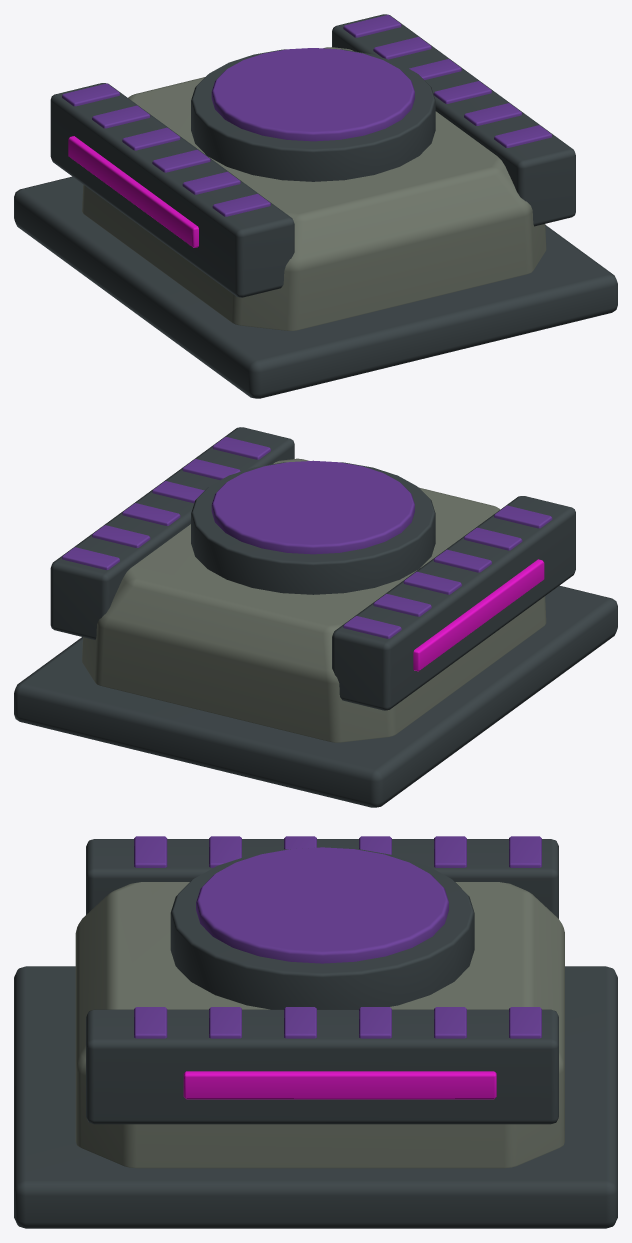
File: military-truck-stealth.glb
3 views of the same model, one above another, from view 1: azimuth 30°, elevation 25°; view 2: azimuth 150°, elevation 25°; view 3: azimuth 270°, elevation 25° (orthographic). The views are drawn at different scales.
Visible parts, largest first — view 1: TurretShell; view 2: TurretShell; view 3: TurretShell.
Boxes of the visible parts, x1,y1,x2,y2 form: TurretShell: (14,14,617,398); TurretShell: (14,427,617,807); TurretShell: (14,836,617,1228).
Bounding box in the file's own units: 1.2 × 0.556 × 1.37.
